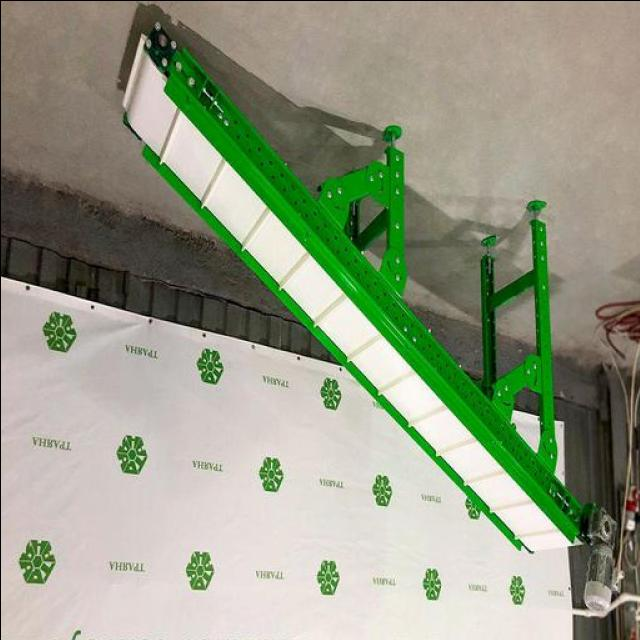conveyor: (120, 42, 576, 558)
